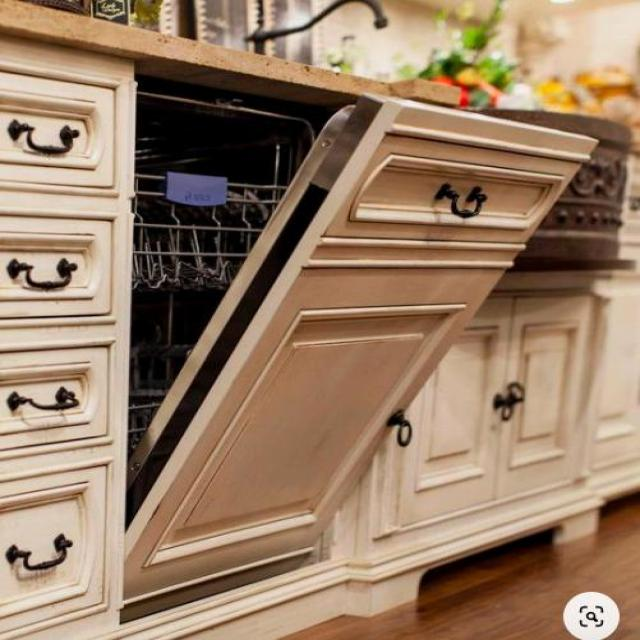dishwasher: (127, 58, 599, 591)
